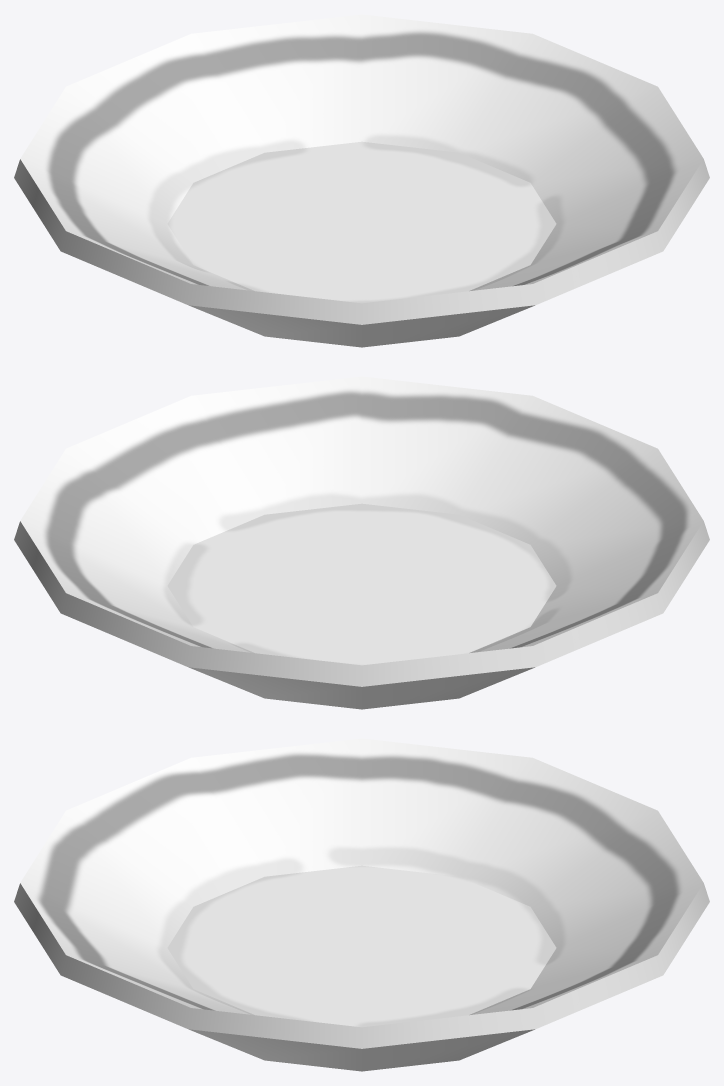
The model's file is obj_Plate.fbx.
3 views of the same model, one above another, from view 1: azimuth 30°, elevation 25°; view 2: azimuth 150°, elevation 25°; view 3: azimuth 270°, elevation 25° (orthographic).
Visible parts, largest first — view 1: obj_Plate; view 2: obj_Plate; view 3: obj_Plate.
Boxes of the visible parts, left/top/right/bottom form: obj_Plate: left=14, top=14, right=709, bottom=347; obj_Plate: left=14, top=376, right=709, bottom=709; obj_Plate: left=14, top=738, right=709, bottom=1071.
Bounding box in the file's own units: 0.1844 × 0.0311 × 0.1844.
Materials: 1 (1 with a texture image).
